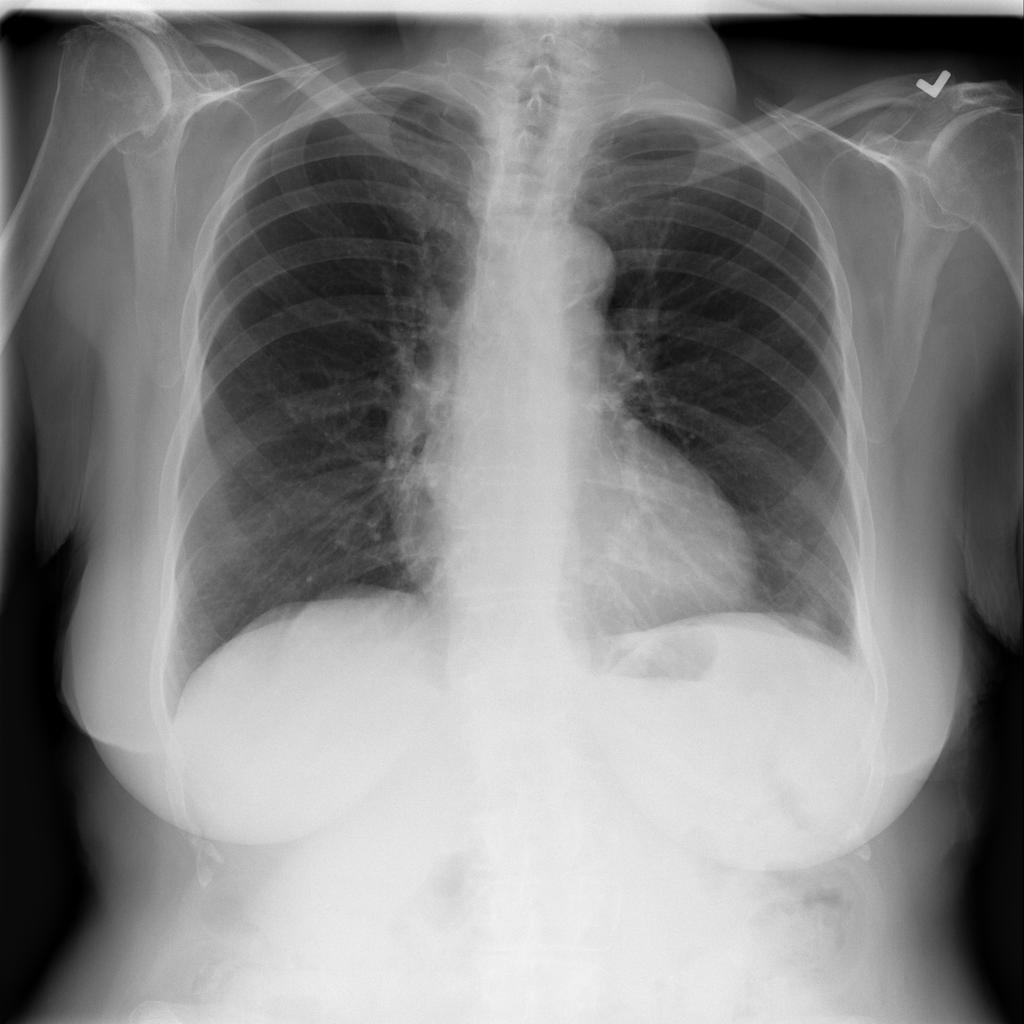nodule: (776, 584, 850, 651), (767, 522, 819, 573)
